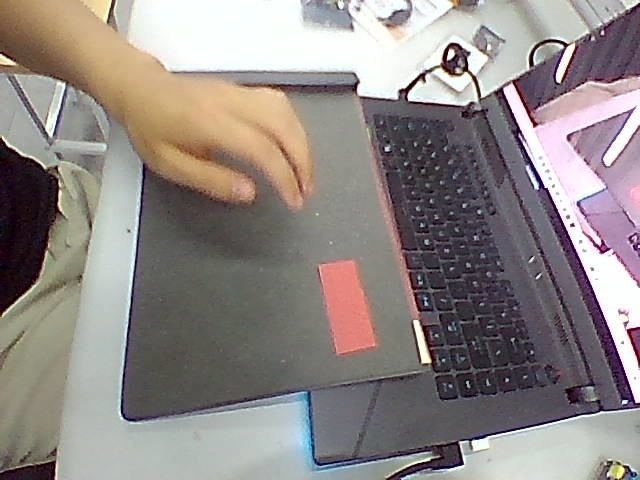card: (318, 260, 376, 355)
